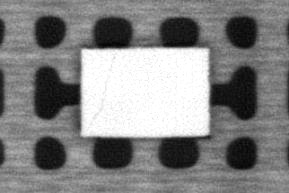DIE_CRACK: (85, 58, 114, 130)
